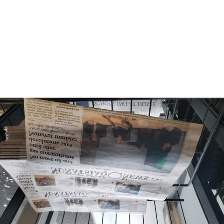news_paper: (22, 96, 207, 194), (0, 123, 149, 217)
